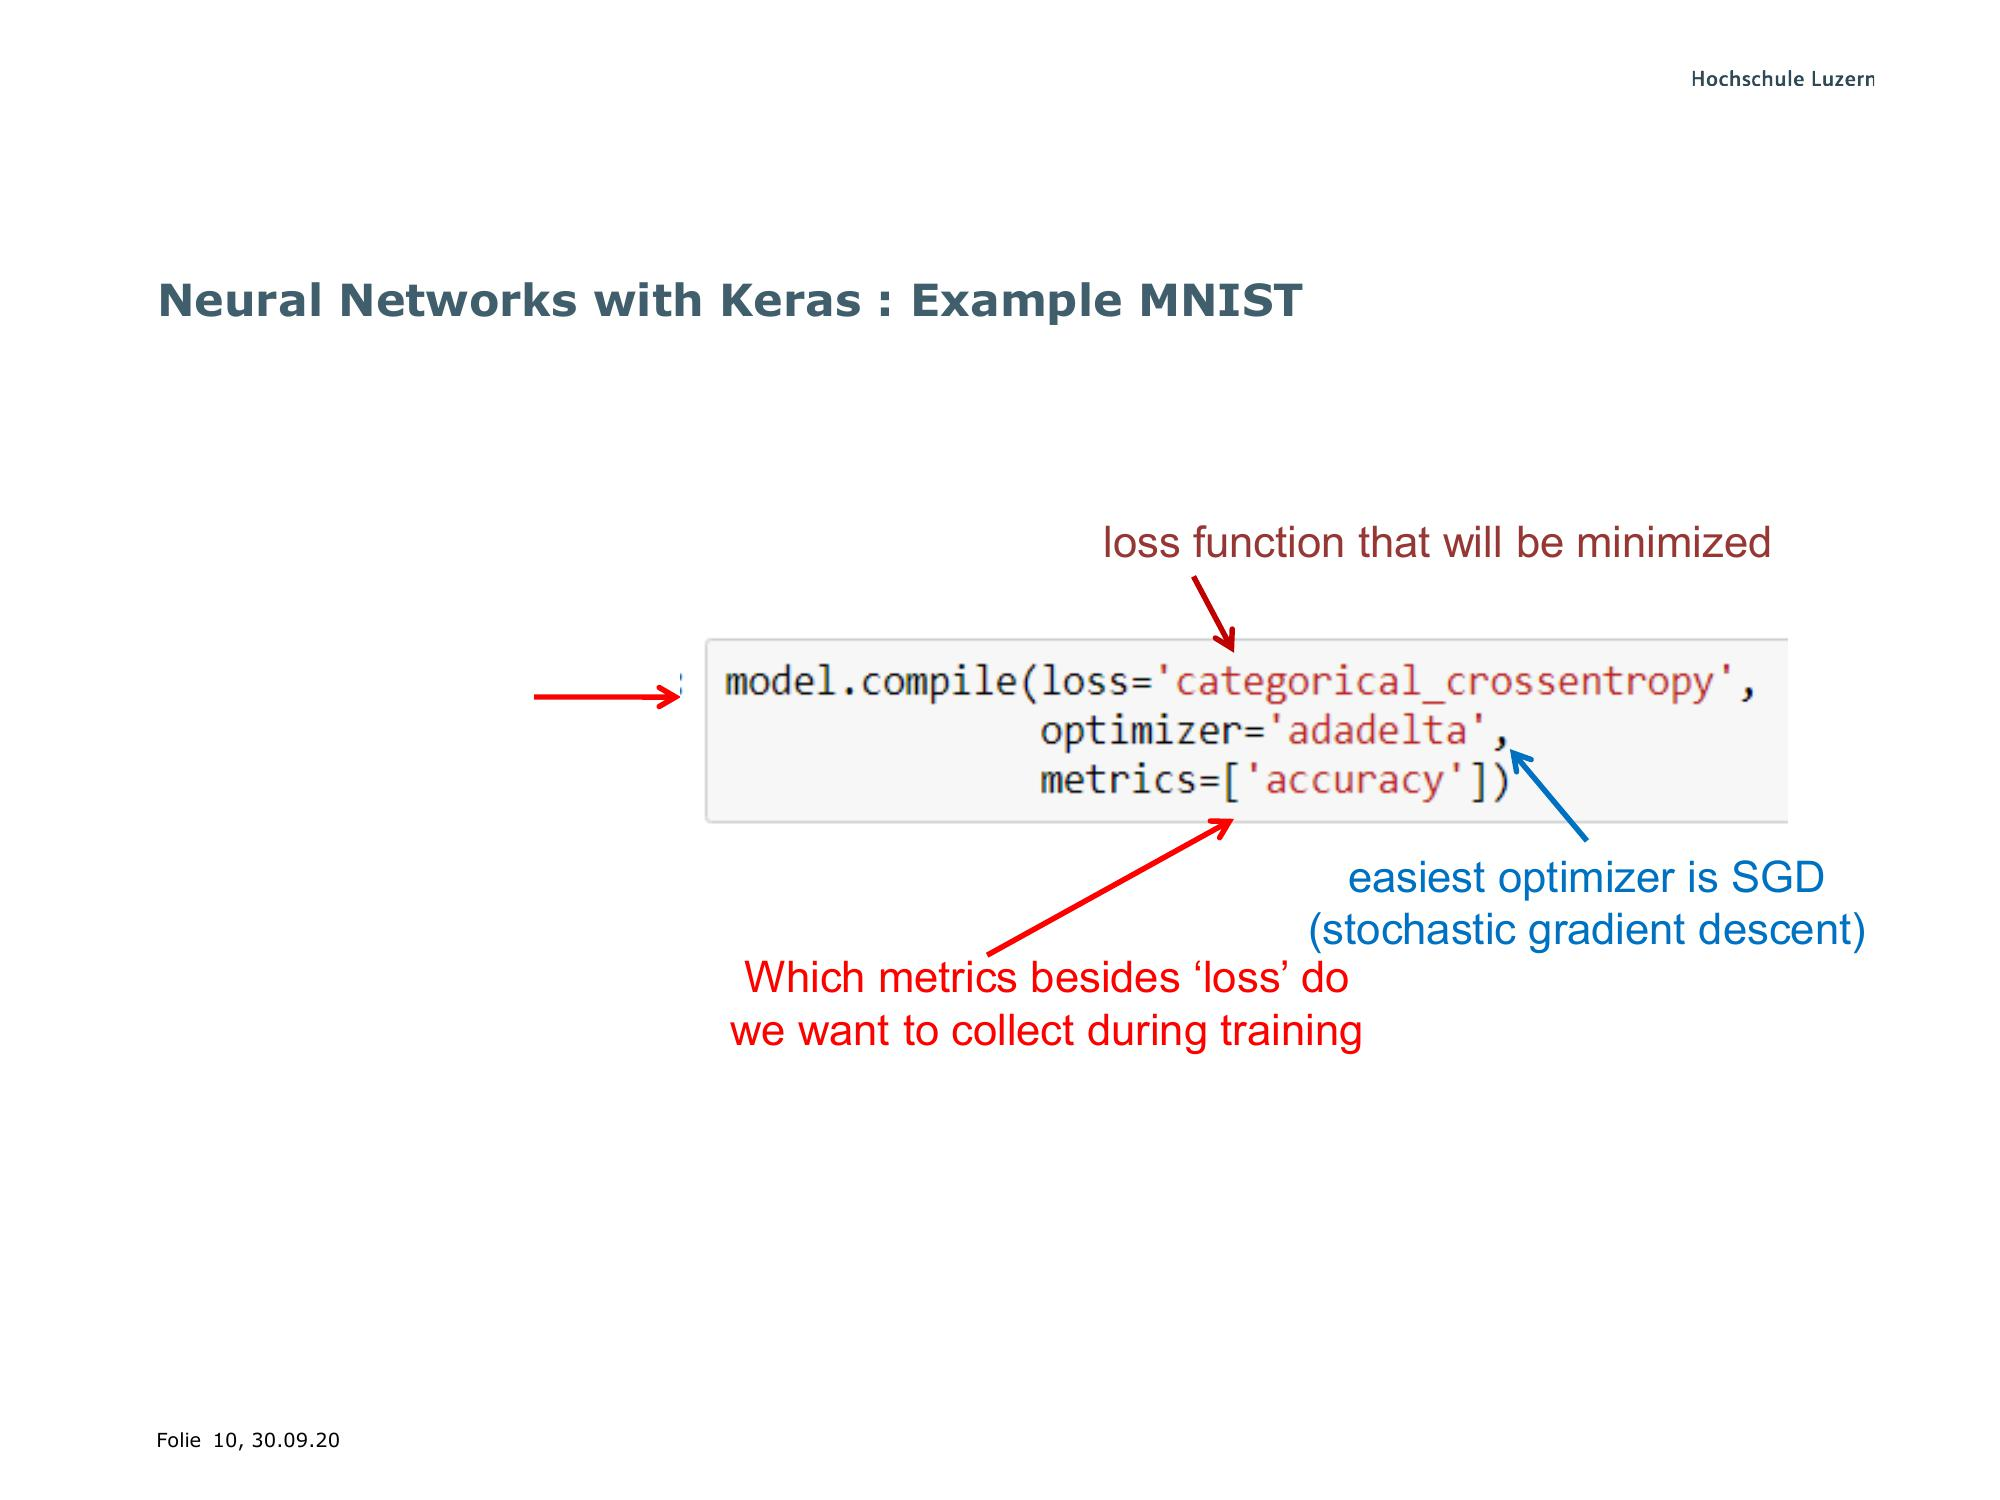Title: (139, 266, 1313, 339)
